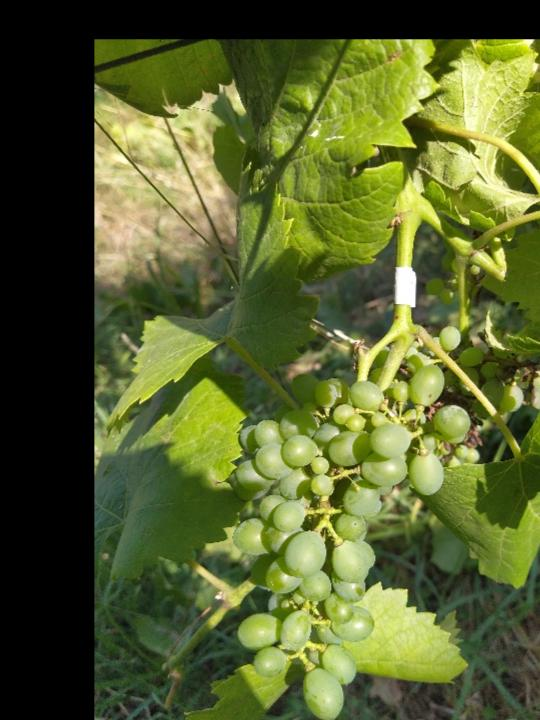grape: (202, 361, 477, 720)
